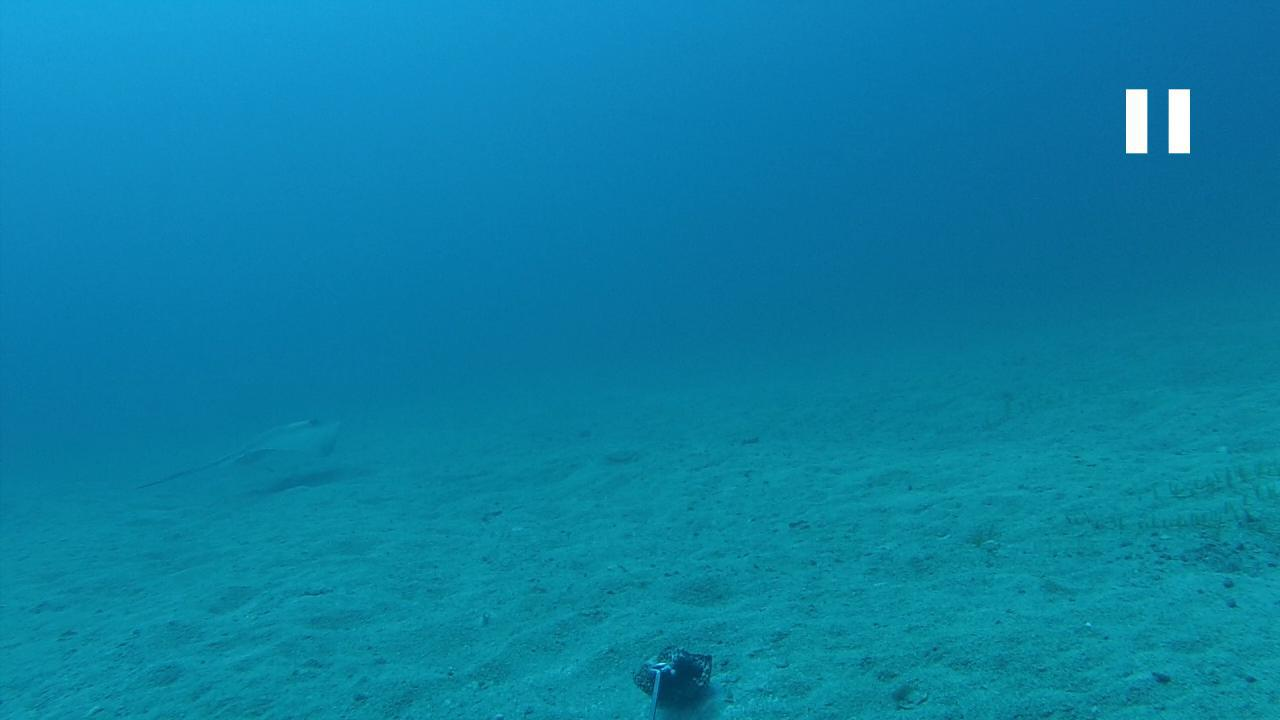dasyatis: (132, 413, 344, 492)
